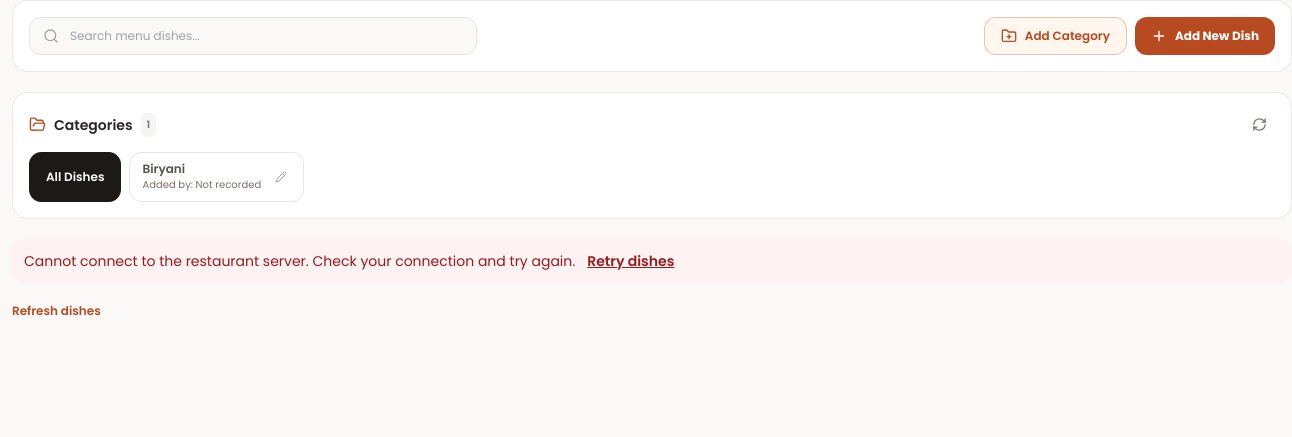
Test: admin dish workflow › shows dish list errors and retries without falling back to sample dishes
The width and height of the screenshot is (1292, 437).
Check: the text "Added by: Not recorded" is shown, box [142,177,261,193]
Step 1. Click the button "Retry dishes" → (631, 261), box [587,251,674,271]
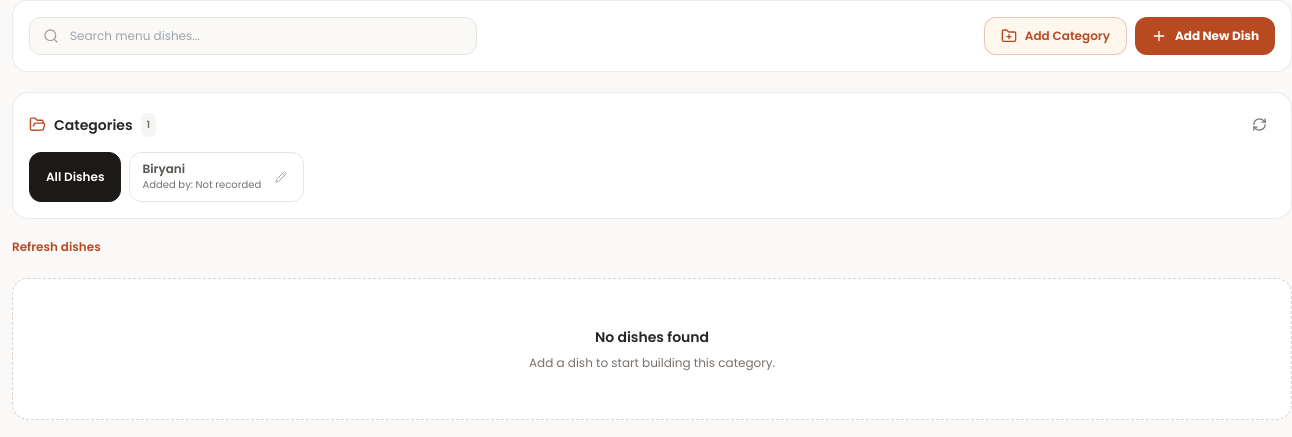
Check: the message is gone
